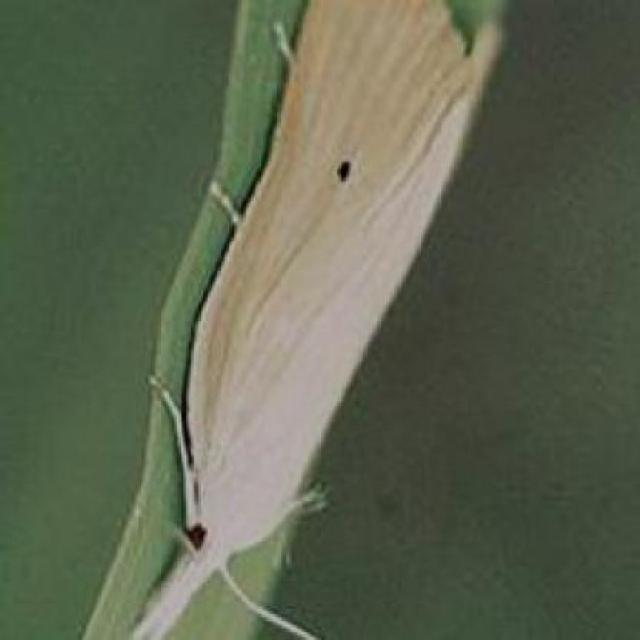stem-borer: (129, 0, 501, 635)
